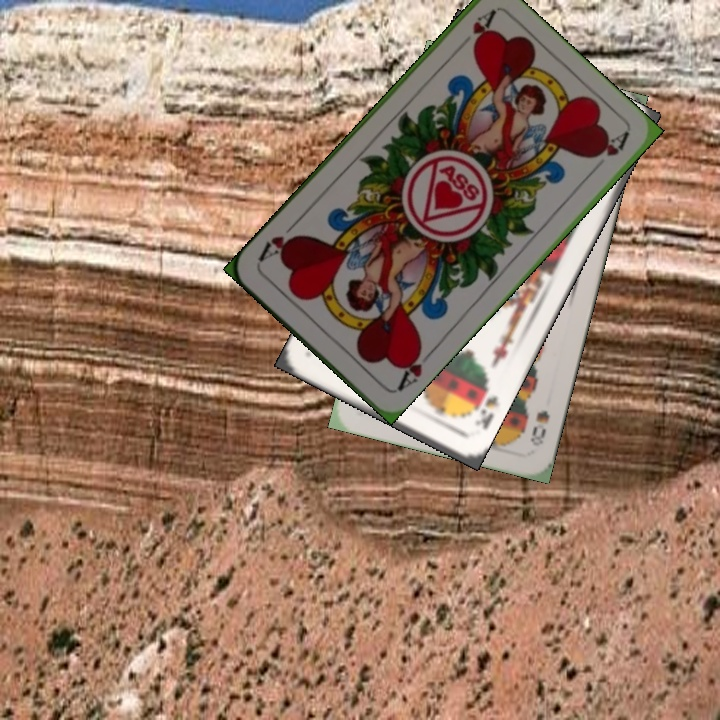HA: (392, 341, 436, 394), (468, 6, 498, 50)
S8: (526, 406, 553, 449)
SK: (470, 391, 502, 432)
